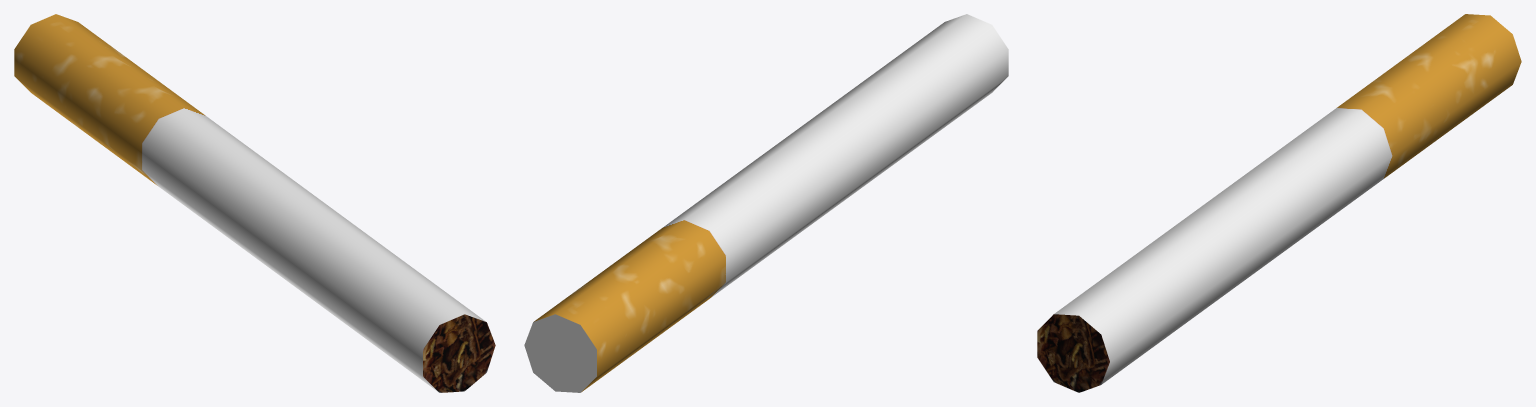
File: cigaretteNew.fbx
3 views of the same model, side by side, from view 1: azimuth 30°, elevation 25°; view 2: azimuth 150°, elevation 25°; view 3: azimuth 330°, elevation 25° (orthographic).
Parts seen in each view (by area): view 1: cigaretteNew; view 2: cigaretteNew; view 3: cigaretteNew.
Boxes of the visible parts, x1=… form: cigaretteNew: x1=14, y1=14, x2=495, y2=392; cigaretteNew: x1=524, y1=14, x2=1008, y2=392; cigaretteNew: x1=1037, y1=14, x2=1521, y2=392.
Bounding box in the file's own units: 0.014 × 0.014 × 0.1344.
Materials: 1 (1 with a texture image).
